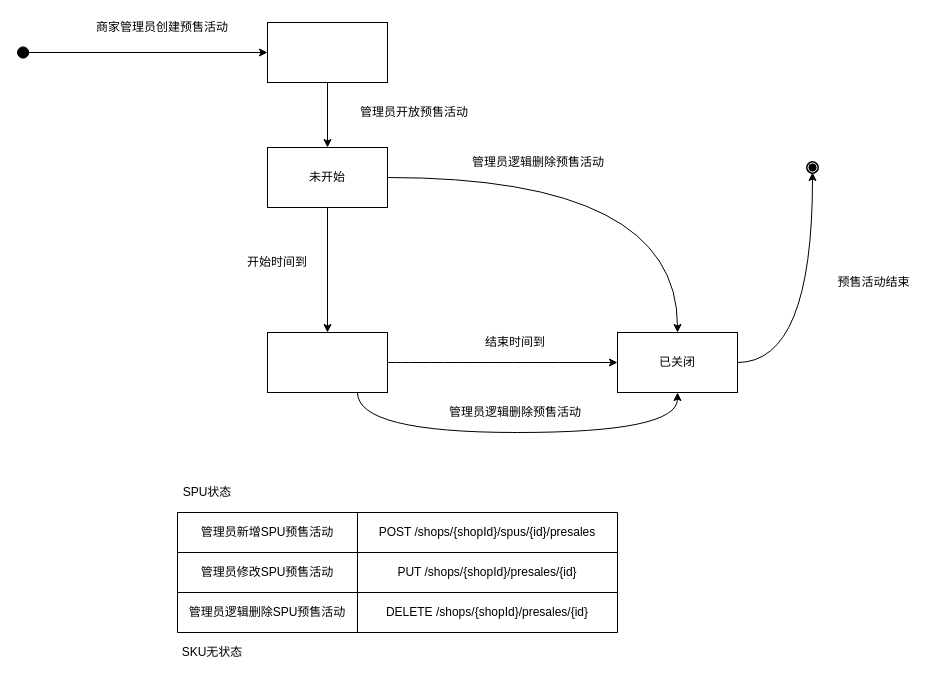
This 938x679 diagram has some shape labels left out. Here are the shapes that lost their labels. From the top down, the centre of each, then its label:
At (x=327, y=52): "已创建".
At (x=327, y=362): "进行中".
